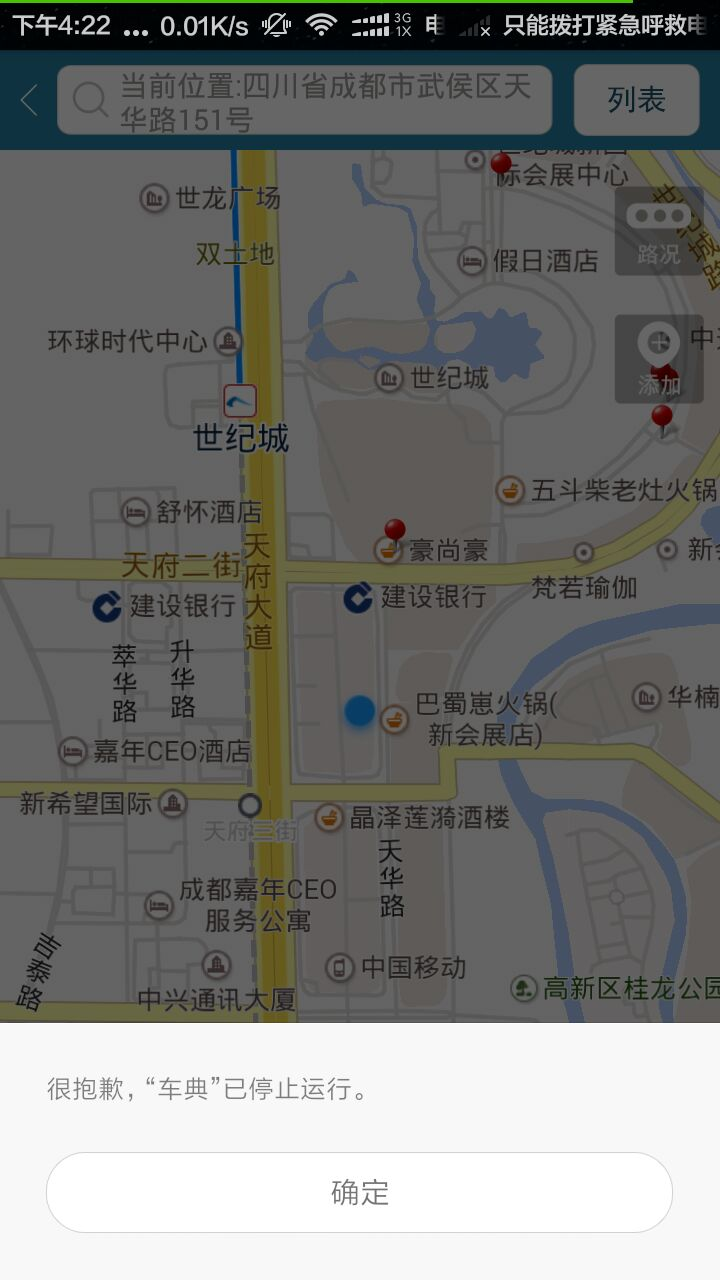alert: (1, 1010, 720, 1279)
